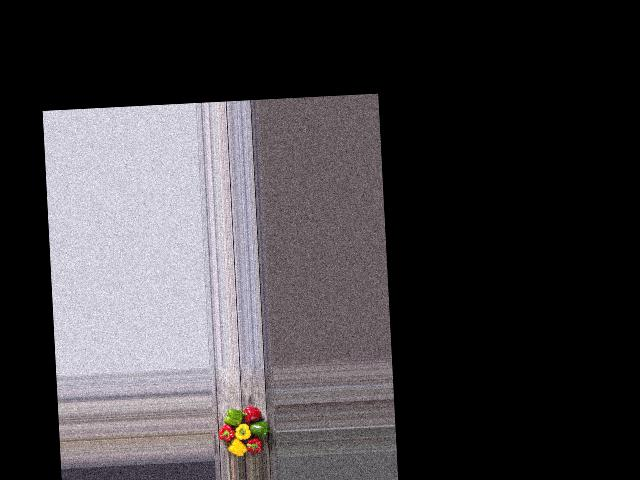bell_pepper: (243, 437, 263, 457)
